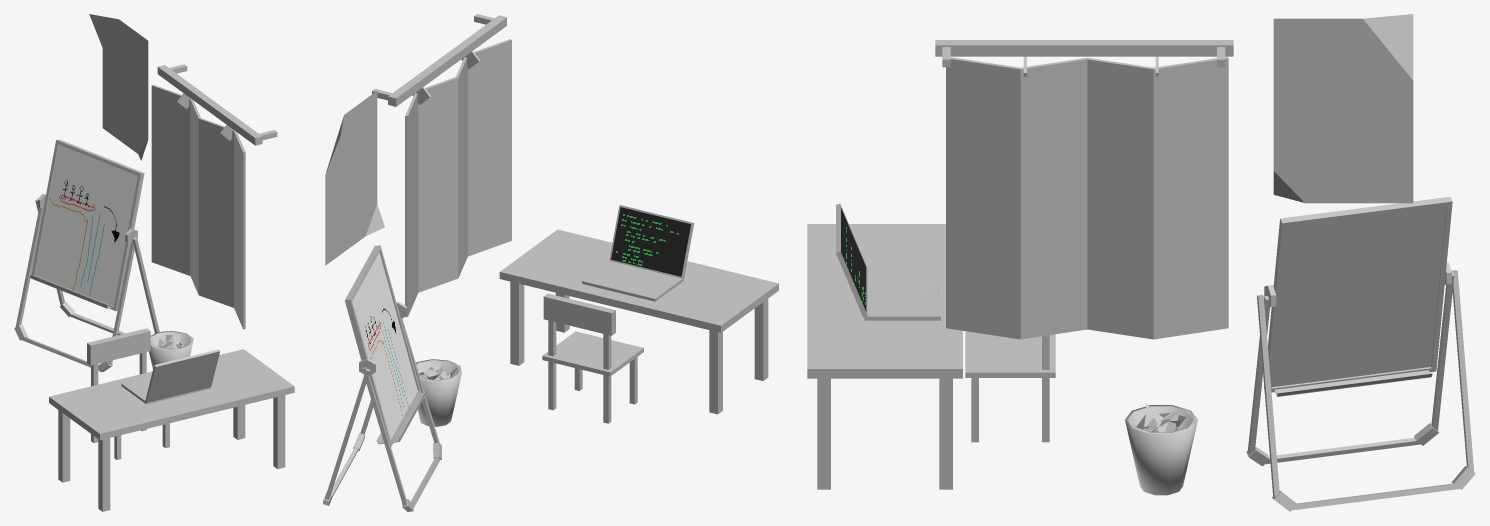
The model's file is Office Stuff.fbx.
3 renders of one model, left to right at view 1: azimuth 30°, elevation 25°; view 2: azimuth 150°, elevation 25°; view 3: azimuth 270°, elevation 25°, orthographic. The views are drawn at different scales.
Visible parts, largest first — view 1: Office Stuff; view 2: Office Stuff; view 3: Office Stuff.
Part boxes in pixels (<box>): Office Stuff: <box>14,14,294,511</box>; Office Stuff: <box>323,14,778,511</box>; Office Stuff: <box>807,14,1475,511</box>.
Size of the model in its own units: 2.06 by 2.81 by 3.52.
